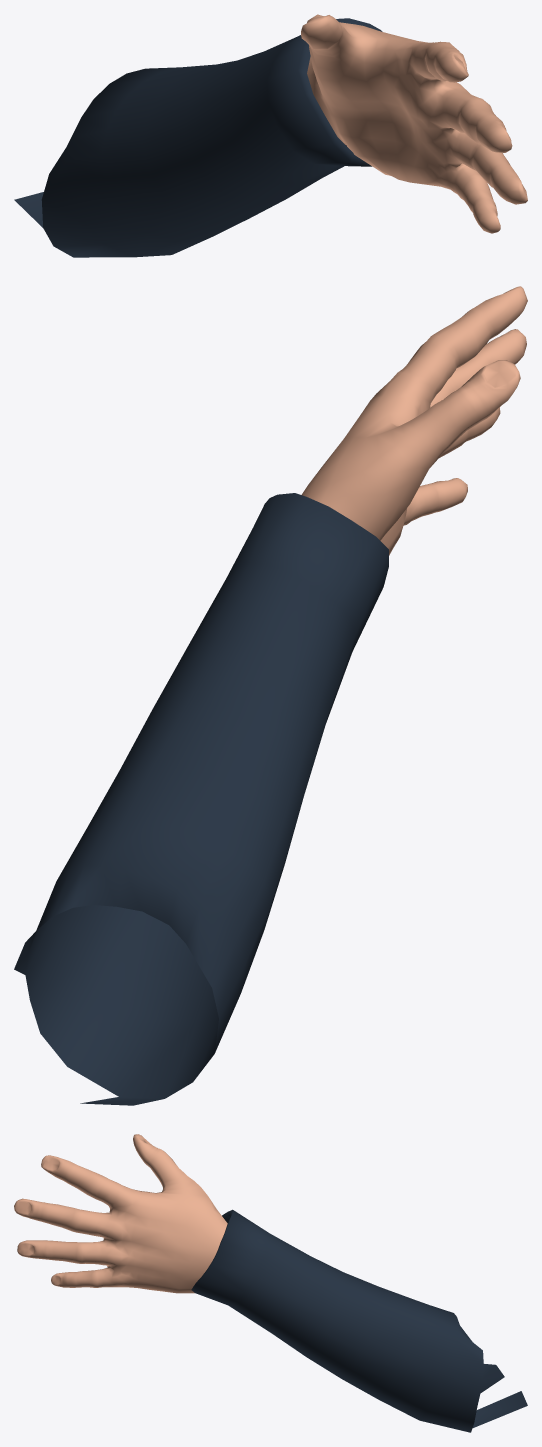
The model's file is hand-open.glb.
3 views of the same model, one above another, from view 1: azimuth 30°, elevation 25°; view 2: azimuth 150°, elevation 25°; view 3: azimuth 270°, elevation 25° (orthographic). The views are drawn at different scales.
Visible parts, largest first — view 1: Player open clothes, Player open skin; view 2: Player open clothes, Player open skin; view 3: Player open clothes, Player open skin.
Boxes of the visible parts, x1=… form: Player open clothes: x1=14, y1=18, x2=382, y2=257; Player open skin: x1=301, y1=14, x2=527, y2=233; Player open clothes: x1=14, y1=493, x2=388, y2=1105; Player open skin: x1=301, y1=286, x2=527, y2=555; Player open clothes: x1=191, y1=1209, x2=527, y2=1432; Player open skin: x1=14, y1=1134, x2=227, y2=1293.
Bounding box in the file's own units: 0.1852 × 0.4689 × 0.7915.
